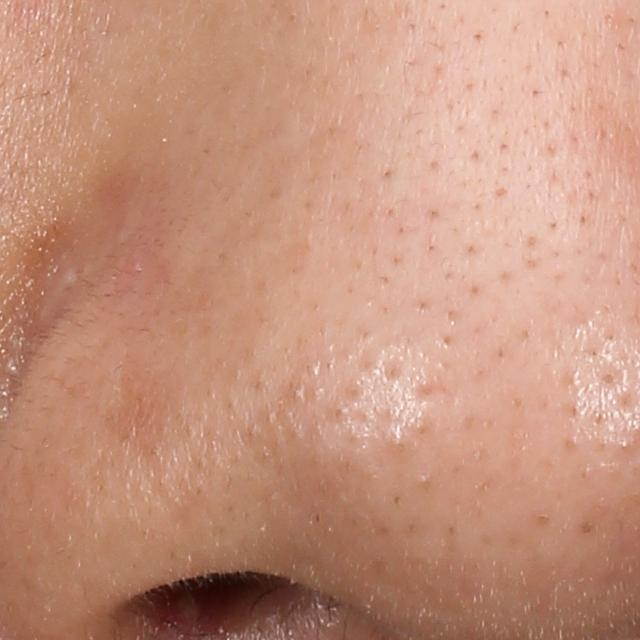comedo: (385, 431, 410, 453)
